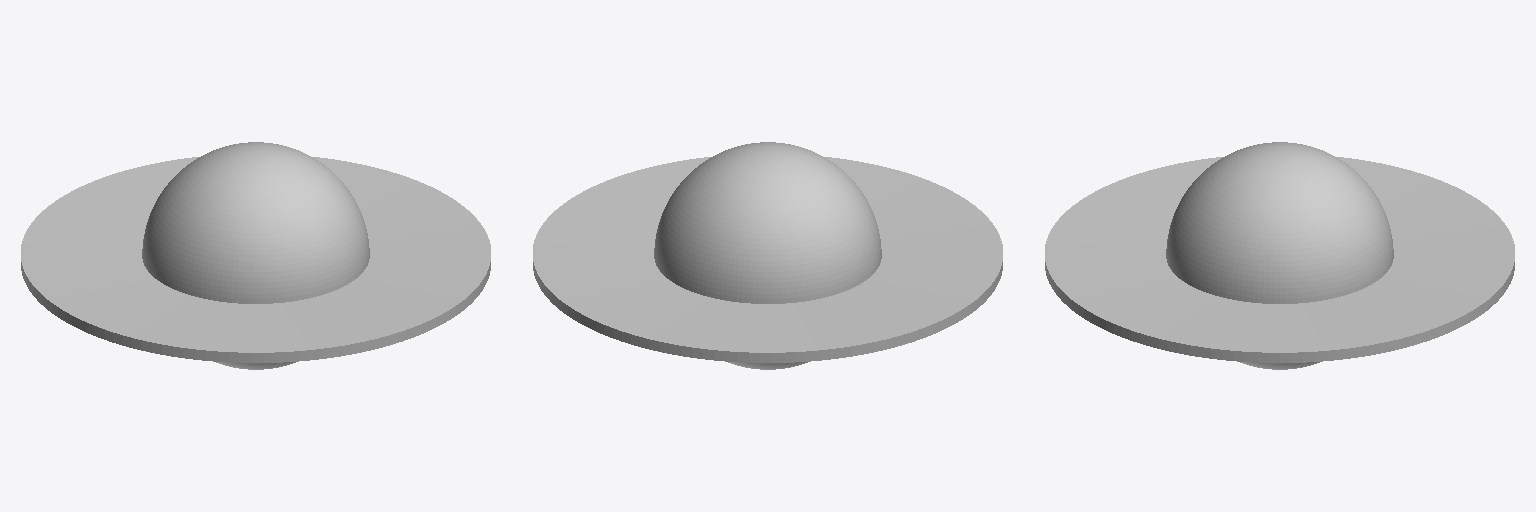
The model's file is saturn.obj.
3 renders of one model, left to right at view 1: azimuth 30°, elevation 25°; view 2: azimuth 150°, elevation 25°; view 3: azimuth 270°, elevation 25°, orthographic.
Visible parts, largest first — view 1: Kugel; view 2: Kugel; view 3: Kugel.
Part boxes in pixels (left/top/right/bottom): Kugel: left=21, top=142, right=490, bottom=369; Kugel: left=533, top=142, right=1002, bottom=369; Kugel: left=1045, top=142, right=1514, bottom=369.
Size of the model in its own units: 5.18 by 2.5 by 5.18.